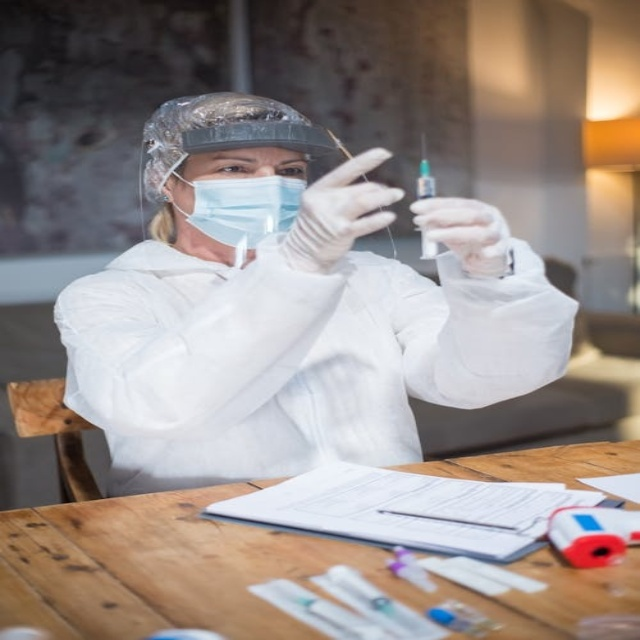Guantes: (275, 149, 406, 273), (409, 194, 518, 278)
Mascara: (174, 172, 307, 247)
Sin_gafas: (191, 155, 315, 182)
